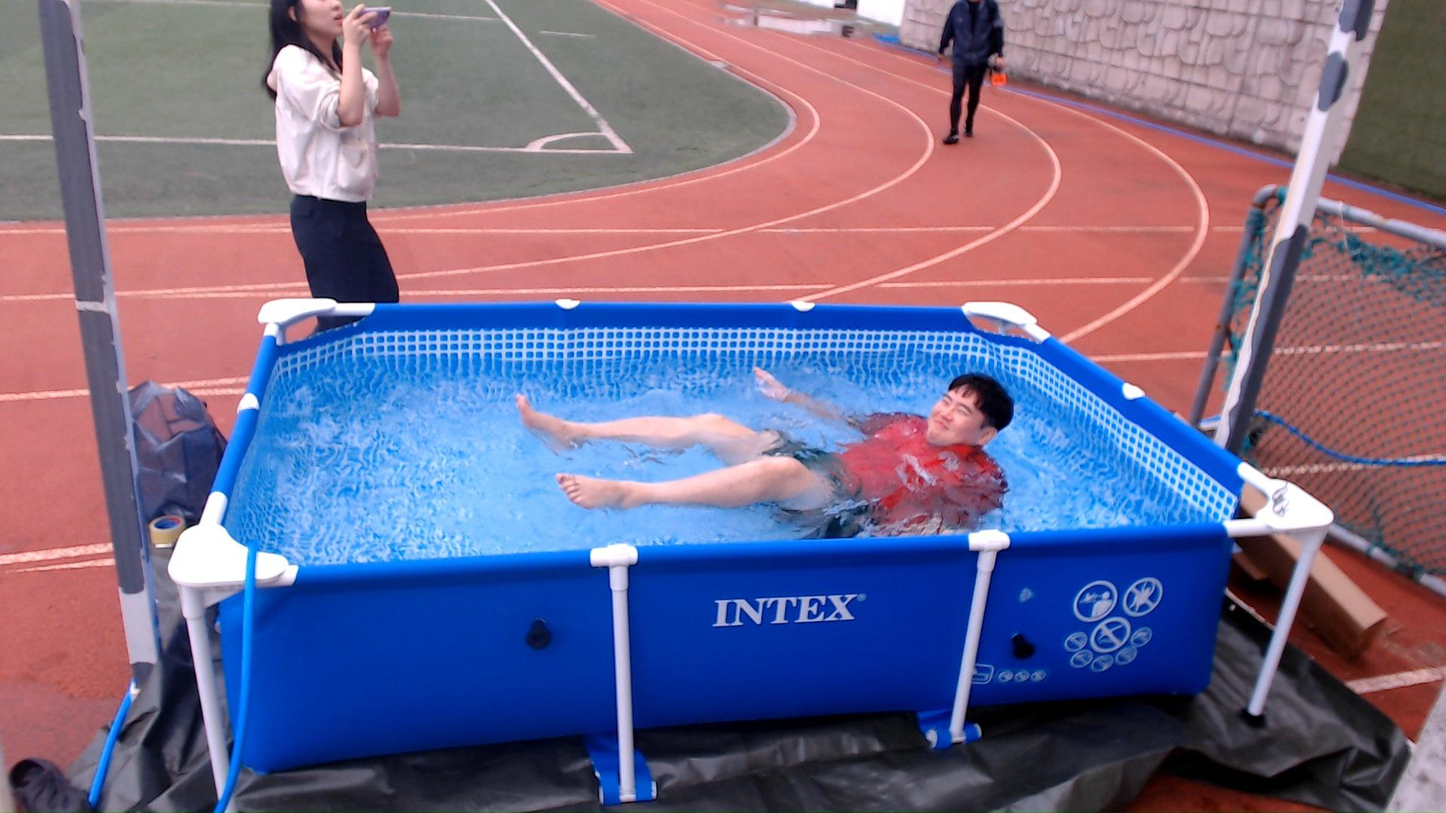Drowning: (479, 336, 1078, 555)
Person-out-of-water: (265, 0, 446, 336), (913, 0, 1035, 167)
